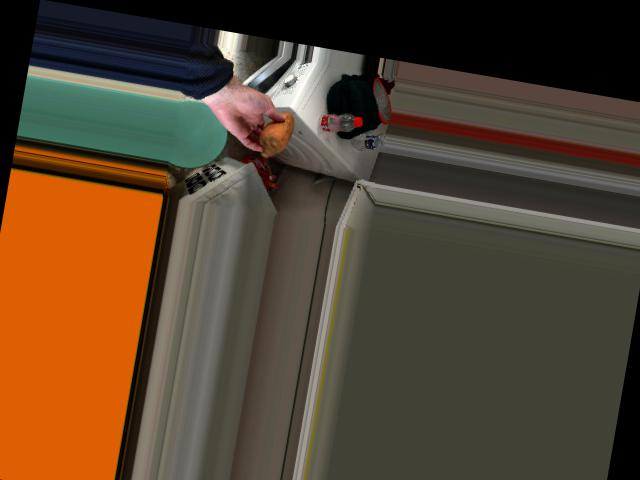sweet_potato: (252, 109, 295, 156)
